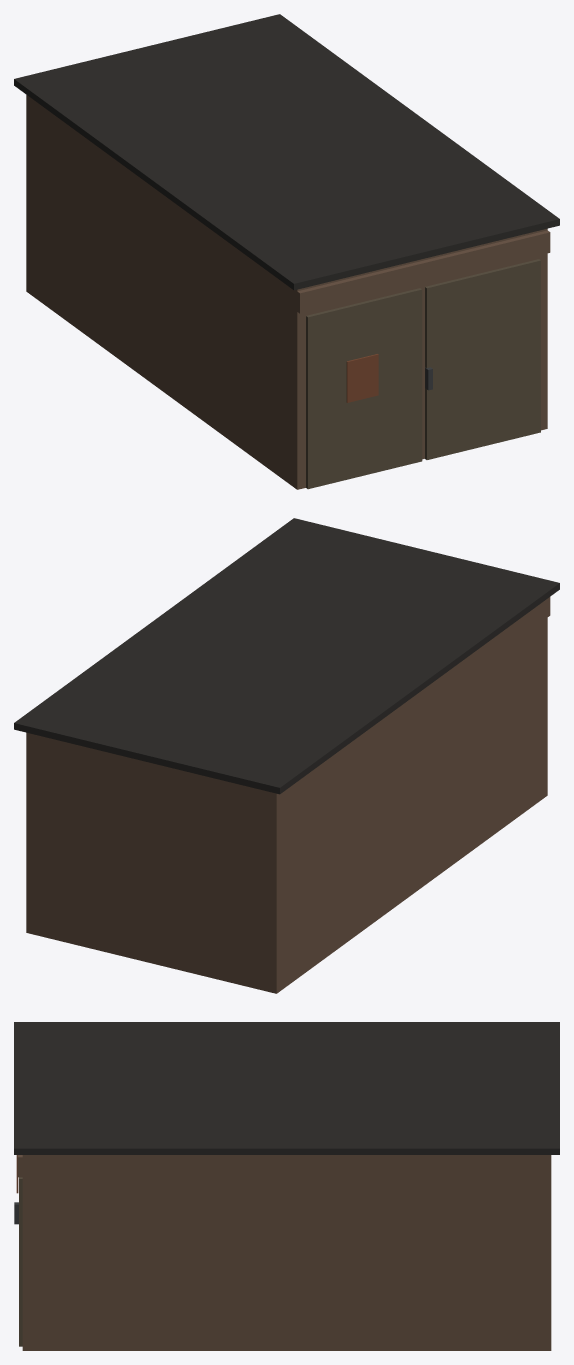
File: garage_rust.glb
3 views of the same model, one above another, from view 1: azimuth 30°, elevation 25°; view 2: azimuth 150°, elevation 25°; view 3: azimuth 270°, elevation 25° (orthographic). The views are drawn at different scales.
Parts seen in each view (by area): view 1: Garage; view 2: Garage; view 3: Garage.
Boxes of the visible parts, x1=… form: Garage: x1=14, y1=14, x2=559, y2=489; Garage: x1=14, y1=518, x2=559, y2=993; Garage: x1=14, y1=1022, x2=559, y2=1350.
Bounding box in the file's own units: 3.4 × 2.58 × 6.2.
